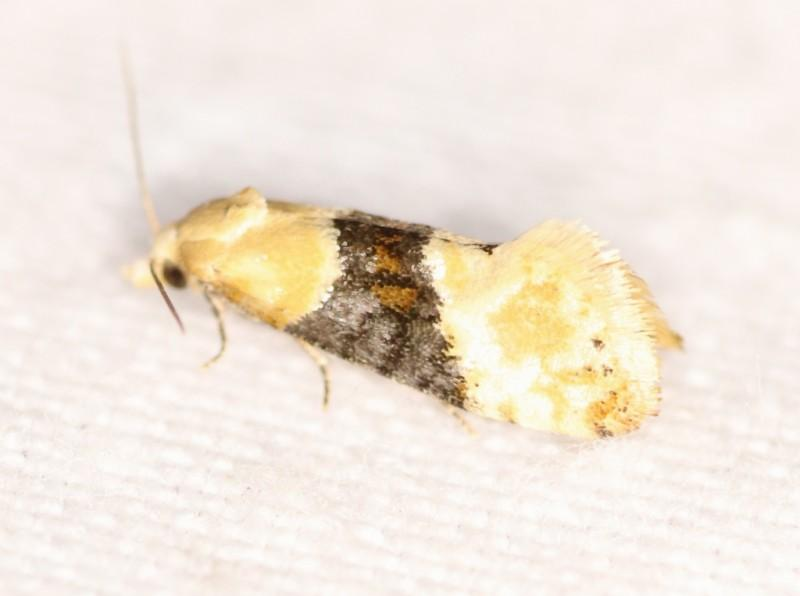Eupoecilia Ambiguella: (112, 38, 685, 444)
